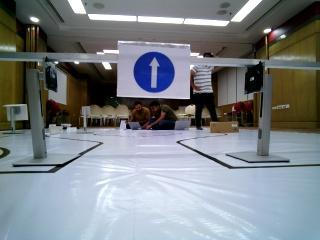straight: (119, 41, 188, 99)
